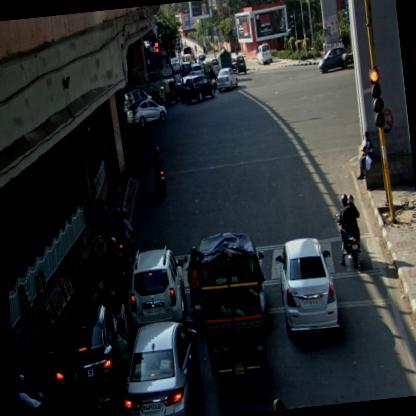car: (115, 317, 206, 415), (46, 303, 124, 415), (273, 234, 340, 346), (121, 243, 188, 331), (122, 94, 168, 130), (315, 44, 350, 74), (120, 87, 155, 114), (184, 75, 214, 104), (214, 66, 238, 95), (254, 41, 273, 66), (230, 53, 247, 76), (169, 56, 181, 74)
motorcycle: (333, 192, 365, 270), (182, 247, 206, 328), (103, 238, 128, 311), (112, 206, 138, 271), (149, 144, 168, 196)
truck: (195, 226, 270, 392), (218, 48, 232, 73)
